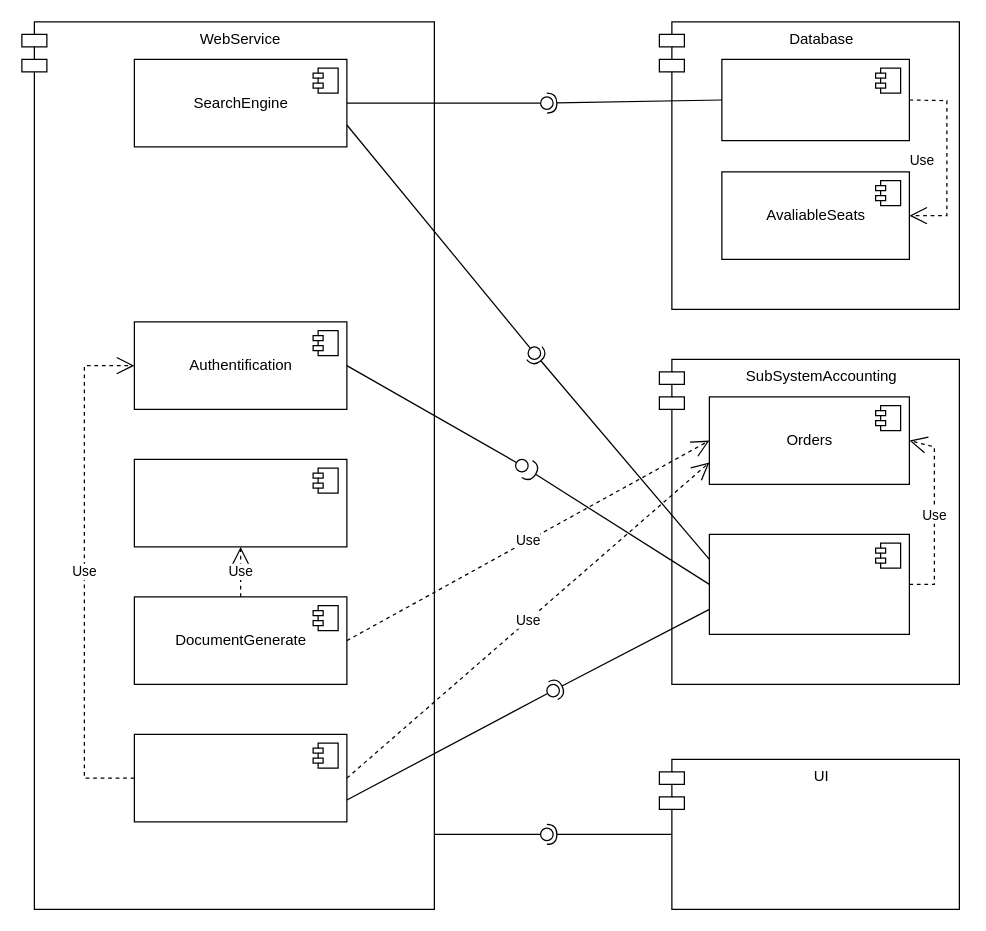
The diagram is 986 pixels wide and 931 high, and some of its shapes have lost their labels. Here are the shapes that lost their labels. From the top down, the centre of each, then its label:
(815,99): Shedule
(240,502): Messaging
(808,583): Customer
(240,777): Payment
